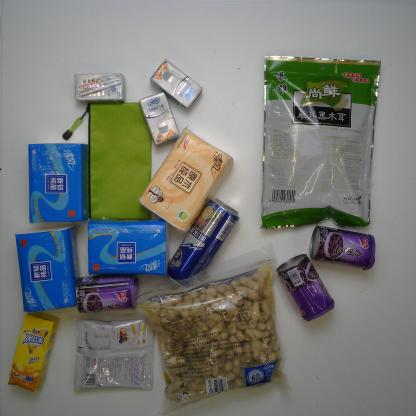Alcohol: (166, 197, 241, 289)
Canned Food: (275, 253, 336, 322), (309, 224, 377, 272), (77, 272, 140, 315)
Dried Food: (128, 240, 291, 416), (257, 54, 384, 233)
Drink: (6, 311, 61, 394)
Instant Drink: (73, 317, 155, 392)
Milk: (150, 58, 204, 110), (139, 91, 181, 146), (73, 72, 127, 104)
Stationery: (62, 100, 153, 221)
Tissue: (137, 124, 236, 236), (13, 223, 81, 313), (28, 141, 91, 224), (86, 218, 170, 276)
